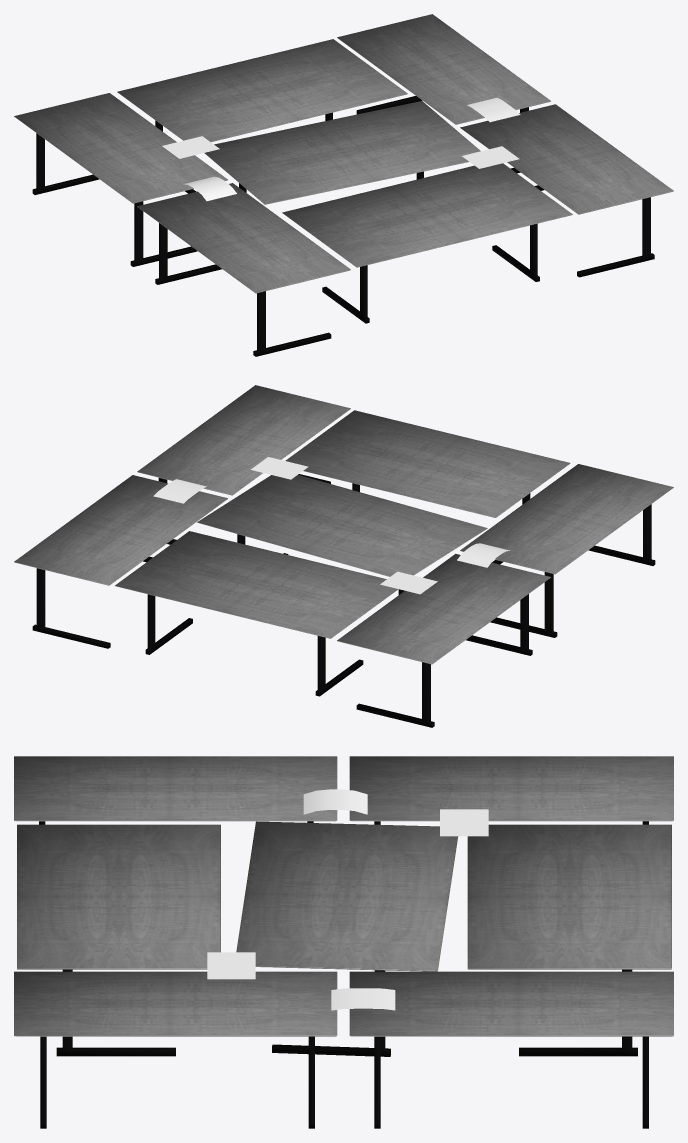
The model's file is officeScene.fbx.
3 views of the same model, one above another, from view 1: azimuth 30°, elevation 25°; view 2: azimuth 150°, elevation 25°; view 3: azimuth 270°, elevation 25° (orthographic). The views are drawn at different scales.
Parts seen in each view (by area): view 1: Tables; view 2: Tables; view 3: Tables.
Part boxes in pixels (x1=…): Tables: x1=14, y1=14, x2=673, y2=356; Tables: x1=14, y1=385, x2=673, y2=727; Tables: x1=14, y1=756, x2=673, y2=1128.
Size of the model in its own units: 484 by 84.64 by 484.
